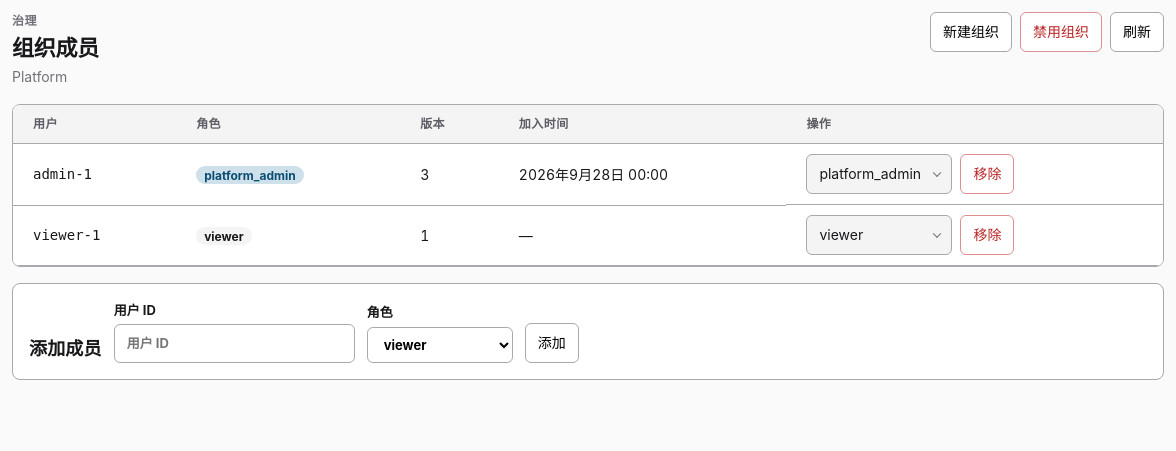
Test case: OrganizationPage › changes a role with the row version and reports success
Select "deployer" in the dropdown with id "role-viewer-1" at (879, 235), box 806,215 -> 952,255
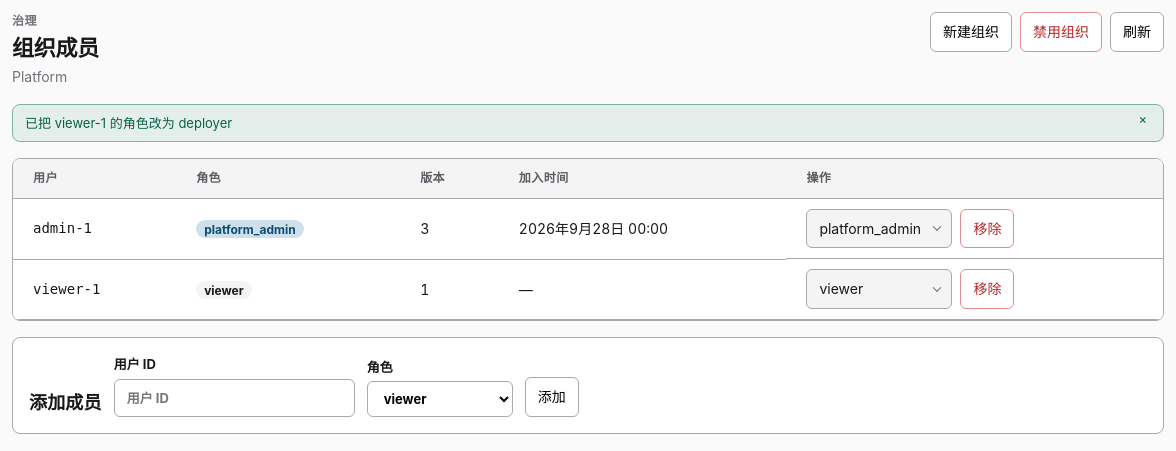
Result: the message with test id "organization-notice" shows "viewer-1" at 25,115 -> 232,131
